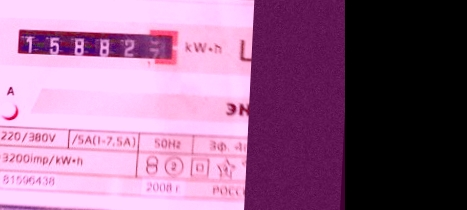1: (23, 34, 33, 52)
2: (122, 37, 135, 57)
5: (45, 35, 60, 55)
7: (146, 45, 159, 57)
8: (96, 35, 110, 57), (72, 35, 85, 56)
screen: (11, 20, 182, 68)
